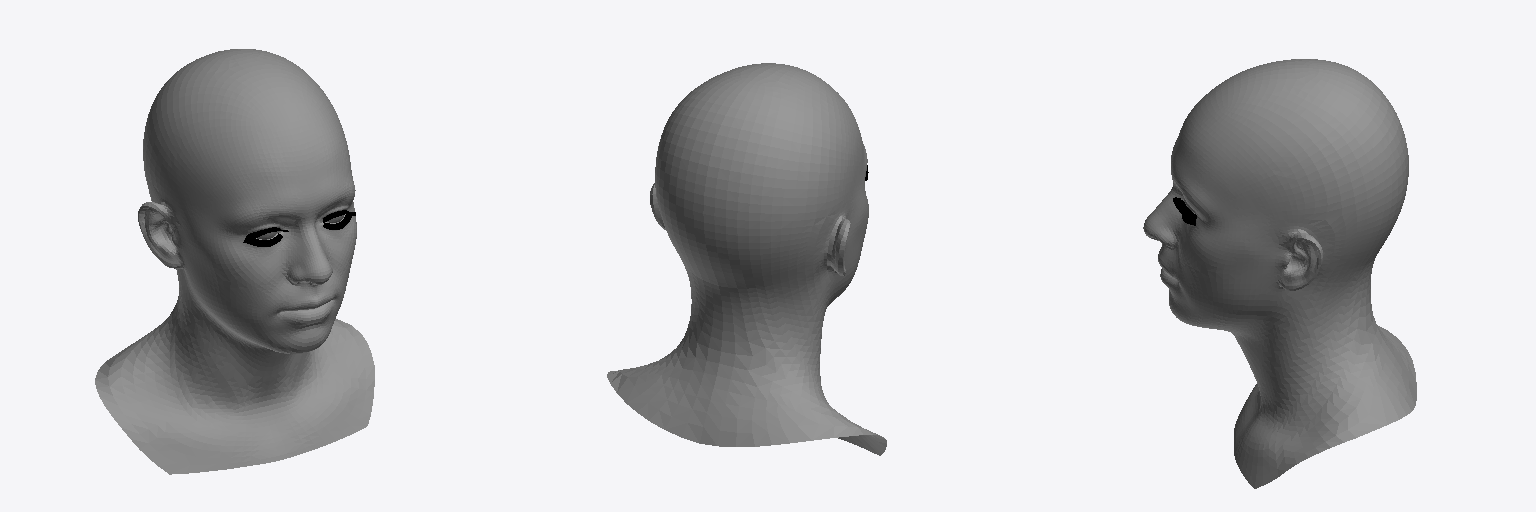
The model's file is identity019.obj.
3 renders of one model, left to right at view 1: azimuth 30°, elevation 25°; view 2: azimuth 150°, elevation 25°; view 3: azimuth 270°, elevation 25°, orthographic.
Bounding box in the file's own units: 24.78 × 33.92 × 22.36.